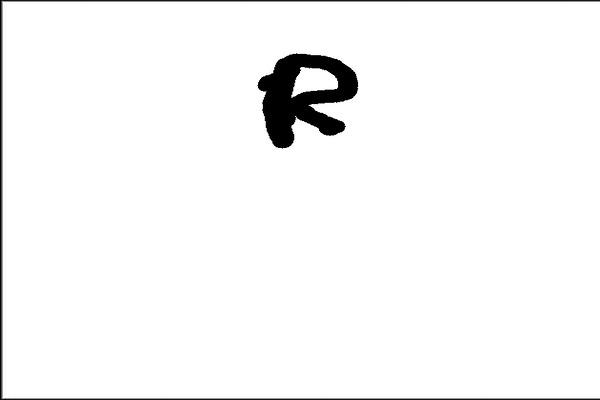R: (248, 43, 372, 151)
